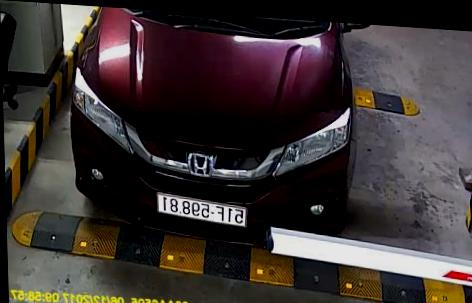License_Plate: (155, 196, 248, 227)
